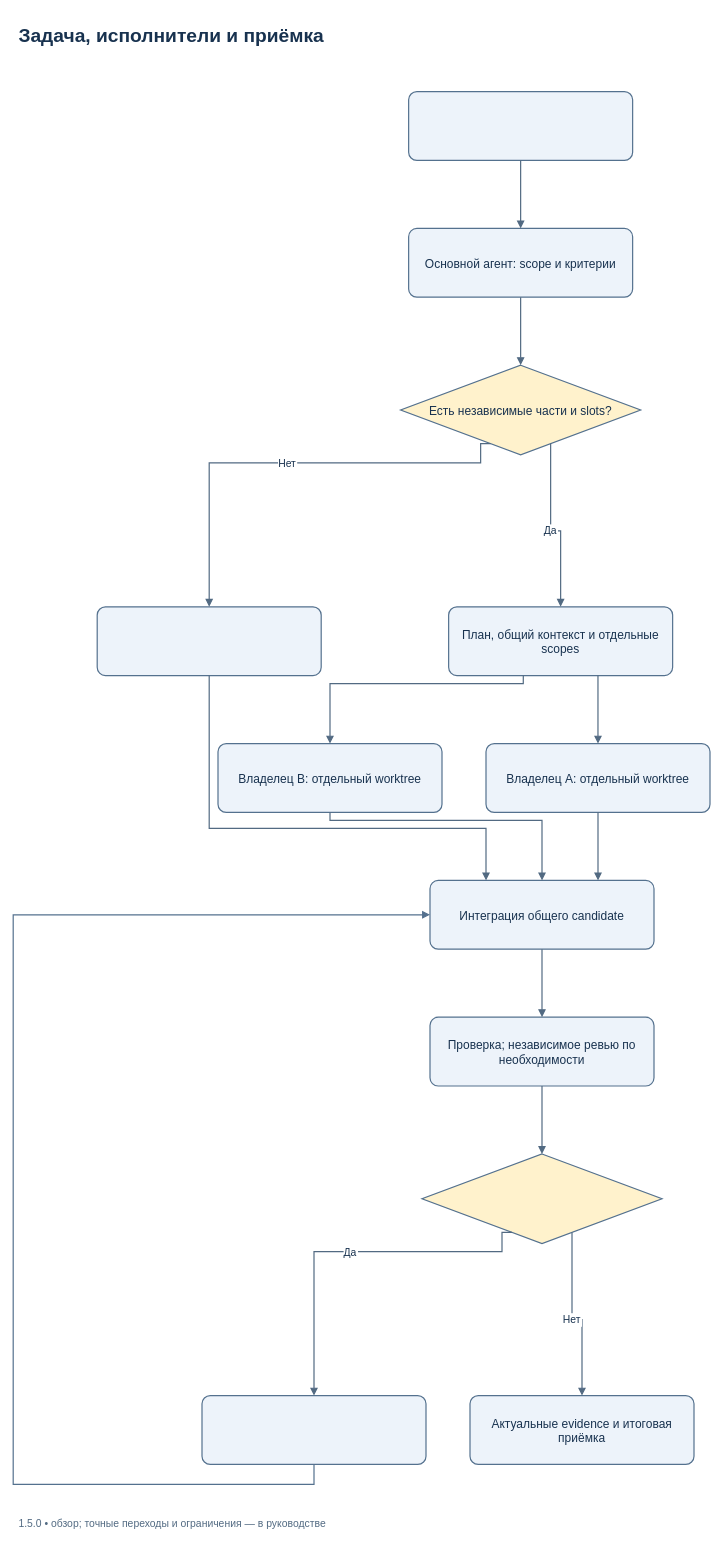
Some shapes in this 723 by 1550 pixel diagram are drawn without their labels. Each missing label, with the box of its shape:
Одна сводка исправлений владельцам: (201, 1395, 426, 1465)
Остались подтверждённые дефекты?: (421, 1153, 662, 1244)
Прямое выполнение: (96, 606, 321, 676)
Цель и ограничения пользователя: (408, 91, 633, 161)
